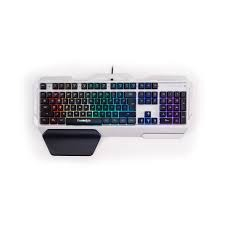keyboard: (35, 70, 198, 162)
